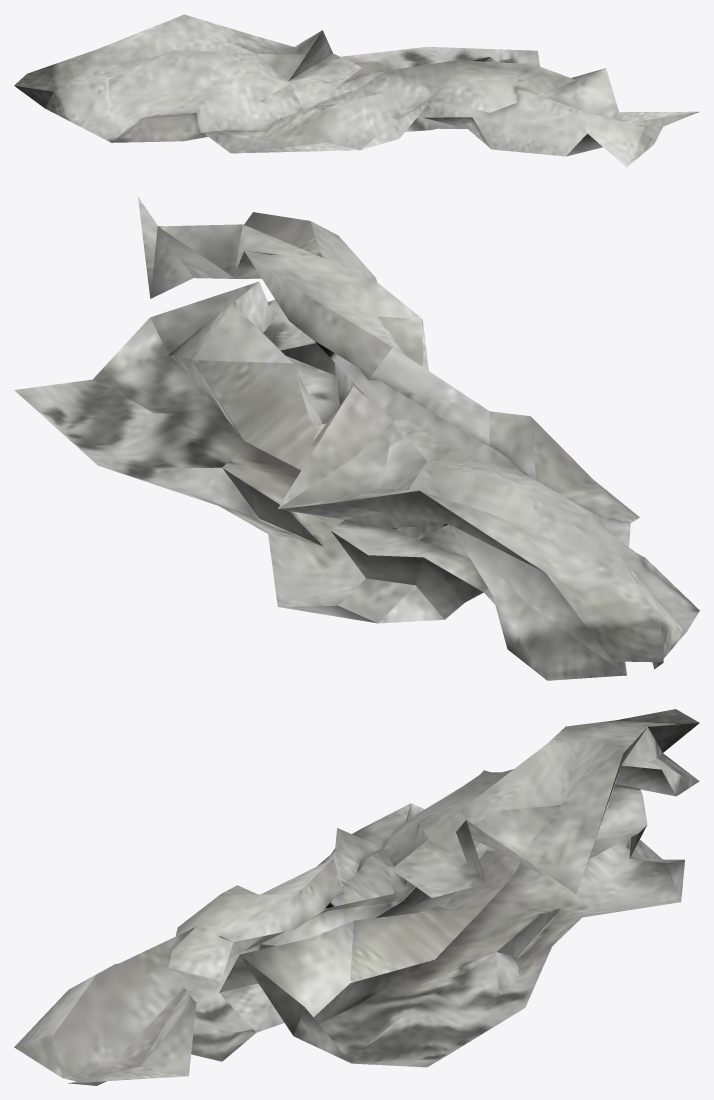
The model's file is rag_sheet_0_lod1_web.glb.
3 renders of one model, top to bottom at view 1: azimuth 30°, elevation 25°; view 2: azimuth 150°, elevation 25°; view 3: azimuth 270°, elevation 25°, orthographic. The views are drawn at different scales.
Visible parts, largest first — view 1: rag_sheet_0_Cloth; view 2: rag_sheet_0_Cloth; view 3: rag_sheet_0_Cloth.
Part boxes in pixels (<box>): rag_sheet_0_Cloth: <box>14,14,699,167</box>; rag_sheet_0_Cloth: <box>14,197,699,680</box>; rag_sheet_0_Cloth: <box>14,709,699,1085</box>.
Size of the model in its own units: 1.26 by 0.1765 by 0.9826.
1 material, 1 textured.
